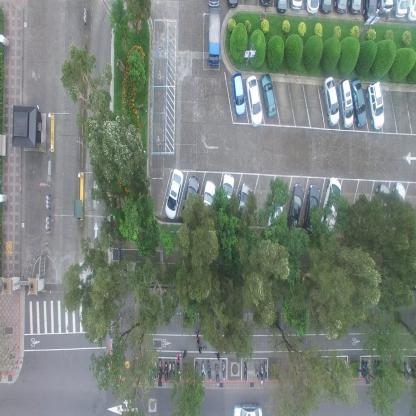car: (320, 177, 341, 236), (164, 167, 184, 220), (301, 183, 320, 238), (266, 185, 286, 234), (366, 79, 385, 130), (336, 77, 354, 129), (372, 182, 390, 234), (286, 182, 304, 234), (181, 175, 199, 227), (322, 76, 340, 127), (235, 182, 254, 230), (388, 180, 406, 230), (207, 6, 221, 70), (260, 72, 278, 118), (246, 74, 262, 125), (199, 180, 216, 228), (350, 78, 366, 128), (218, 173, 234, 220), (231, 72, 247, 116), (232, 400, 263, 416), (363, 0, 377, 25), (393, 0, 408, 18), (304, 0, 320, 15), (377, 0, 393, 15), (333, 0, 348, 15), (406, 0, 416, 22), (319, 0, 332, 15), (348, 0, 361, 15), (274, 0, 288, 13), (290, 0, 303, 12), (226, 0, 239, 9), (207, 0, 220, 7), (259, 0, 271, 7)
